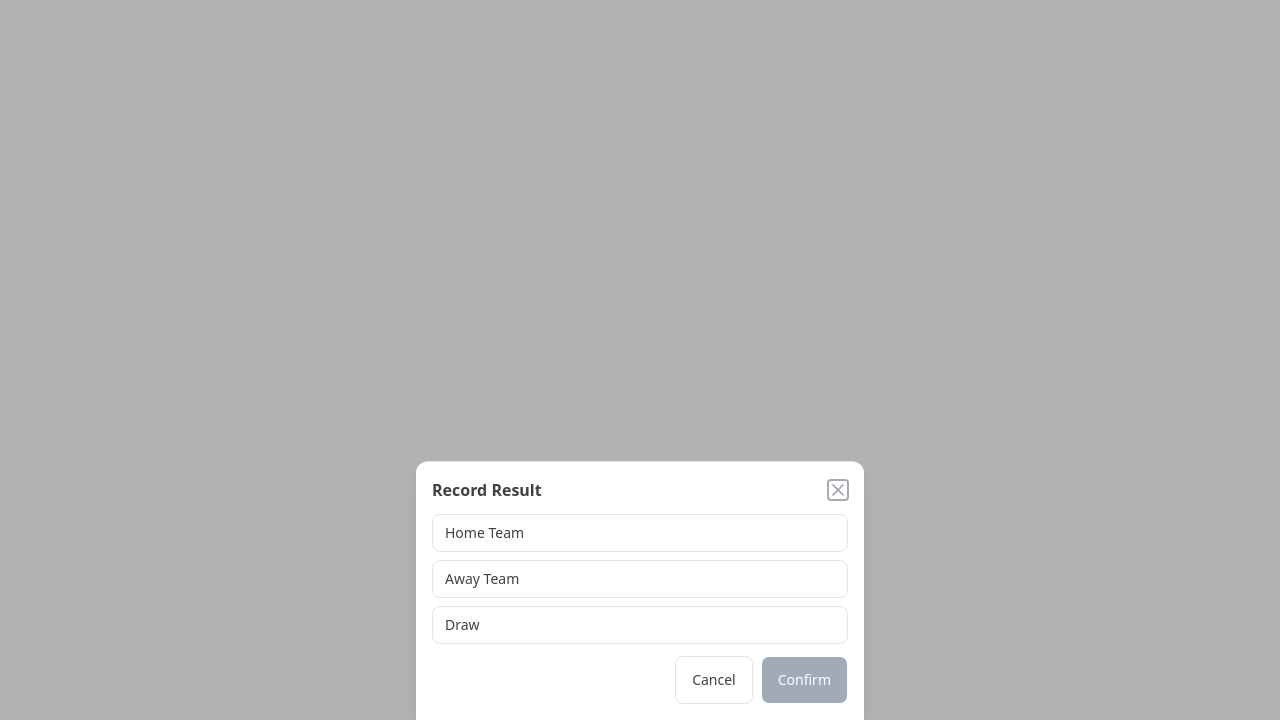
RecordResultModal › disables Confirm until an option is selected
The image size is (1280, 720).
Check: the button "Confirm" is disabled, box [761,656,848,704]
Click the button "Home Team" at (485, 532), box [432,514,848,552]
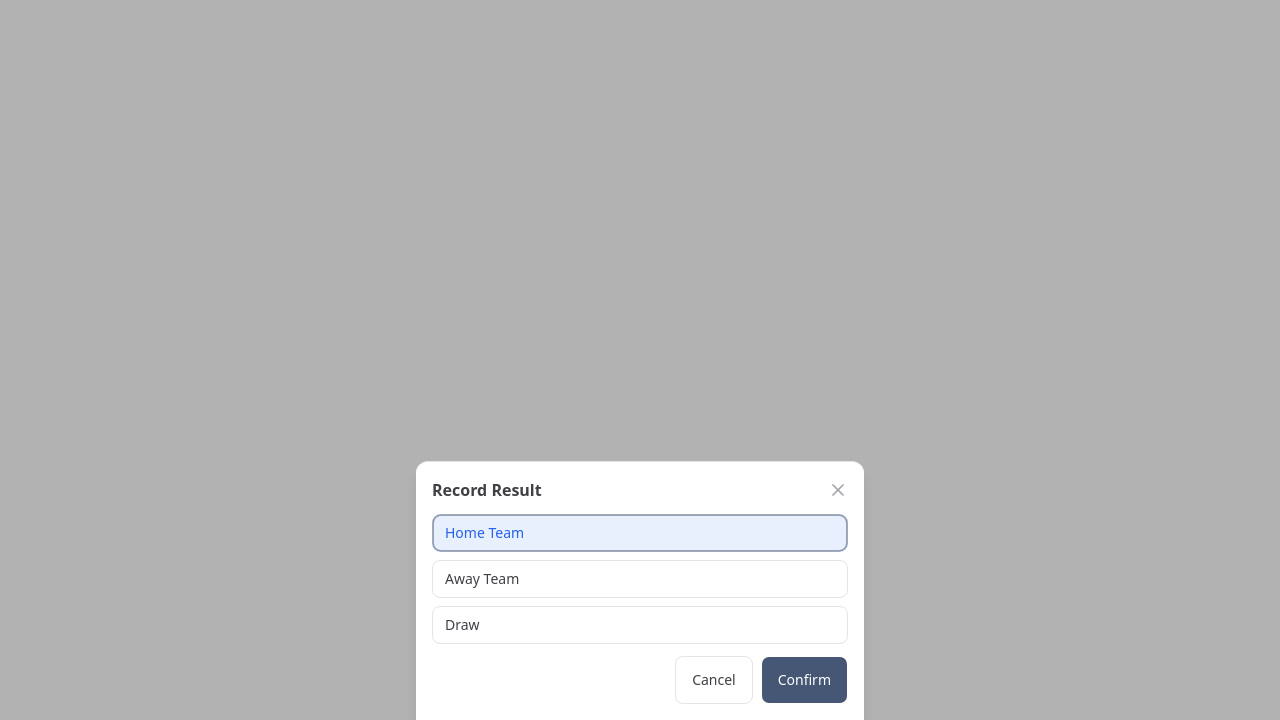
Check: the button "Confirm" is enabled, box [761,656,848,704]
